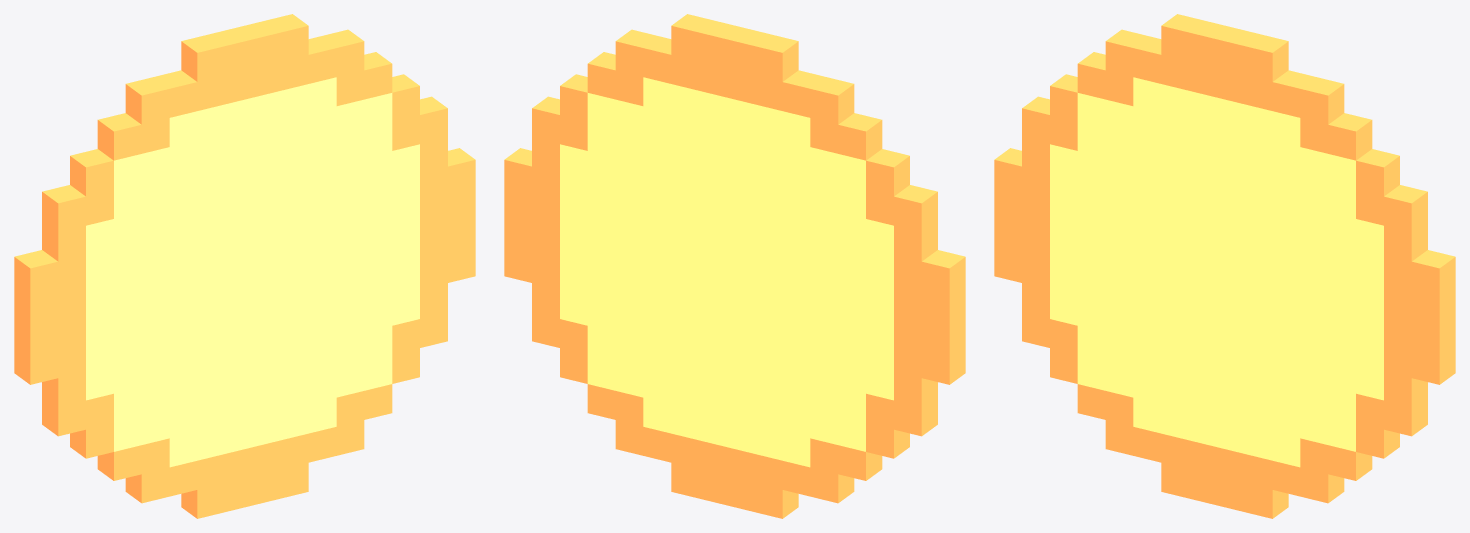
The model's file is sun-low.gltf.
3 renders of one model, left to right at view 1: azimuth 30°, elevation 25°; view 2: azimuth 150°, elevation 25°; view 3: azimuth 330°, elevation 25°, orthographic.
Visible parts, largest first — view 1: sun-low; view 2: sun-low; view 3: sun-low.
Part boxes in pixels (<box>): sun-low: <box>14,14,475,518</box>; sun-low: <box>504,14,965,518</box>; sun-low: <box>994,14,1455,518</box>.
Bounding box in the file's own units: 16 × 16 × 1.
